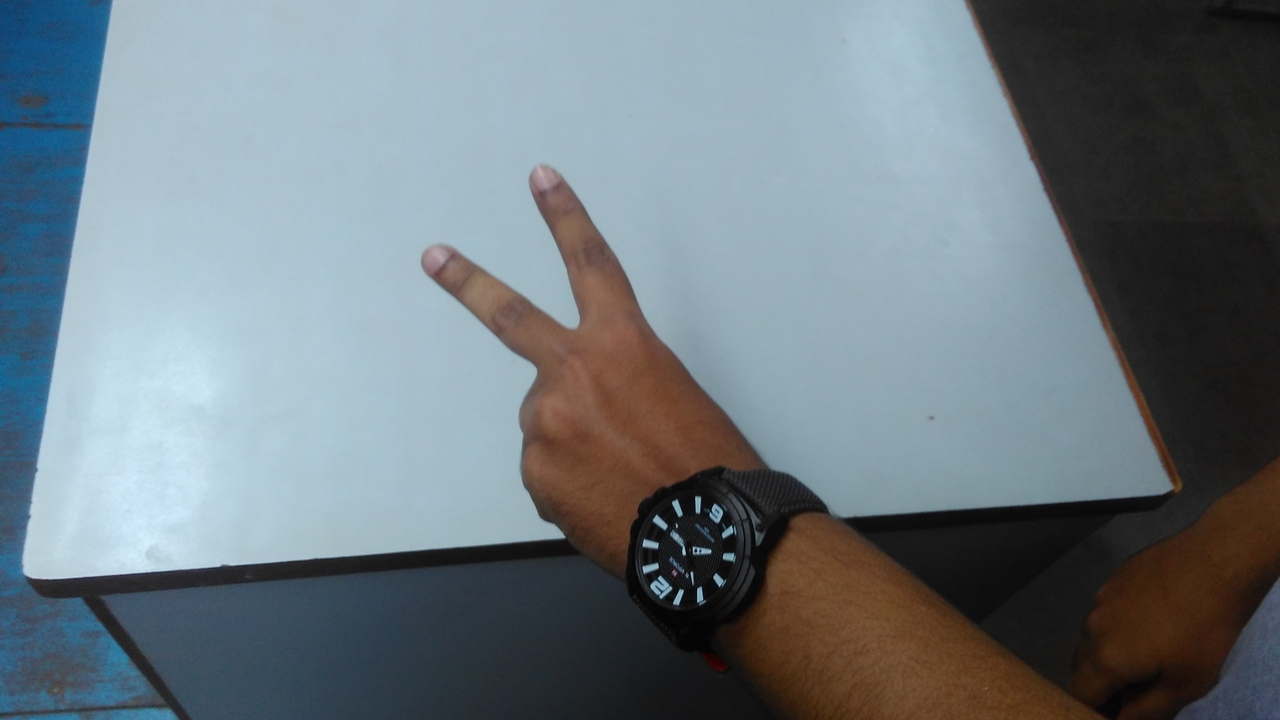fingertip: (518, 156, 586, 212), (406, 232, 478, 284)
